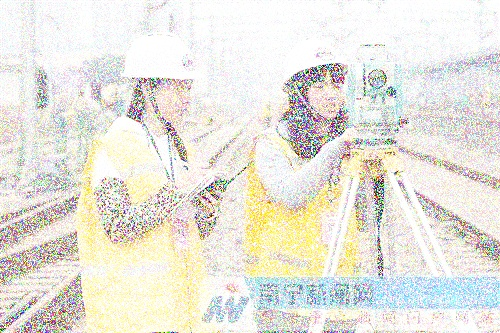helmet: (120, 28, 203, 125), (278, 37, 352, 122)
vest: (72, 118, 206, 333), (243, 125, 367, 301)
